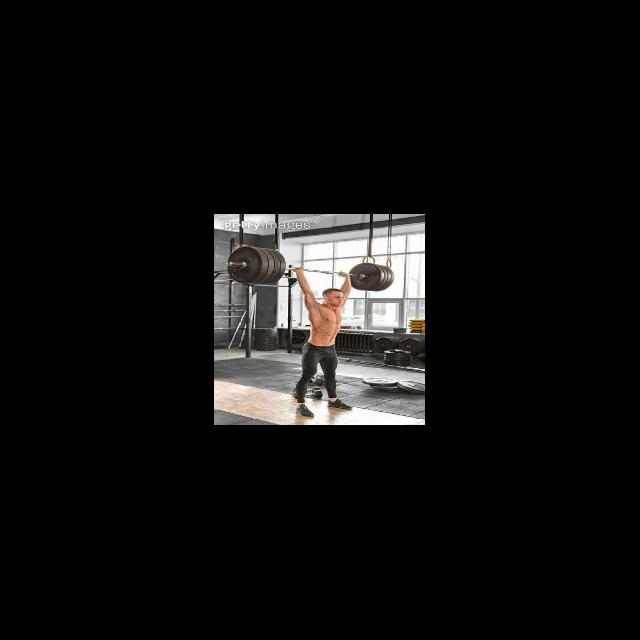barbell: (224, 245, 263, 286)
